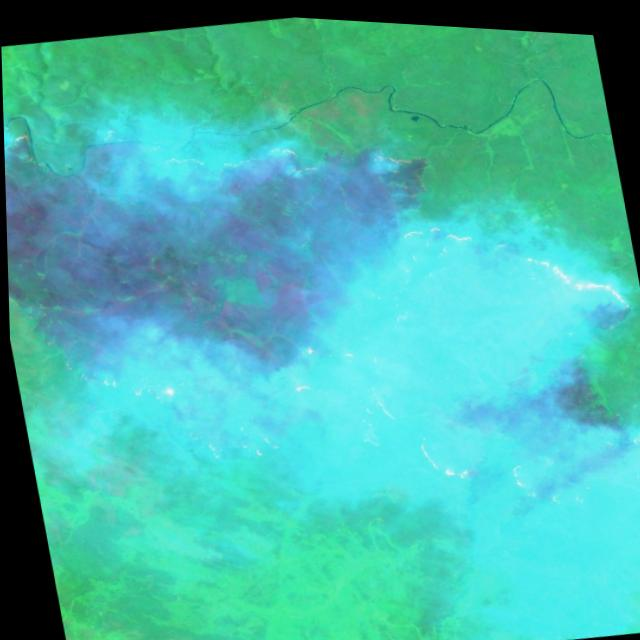fire: (200, 150, 640, 563), (13, 328, 231, 537)
